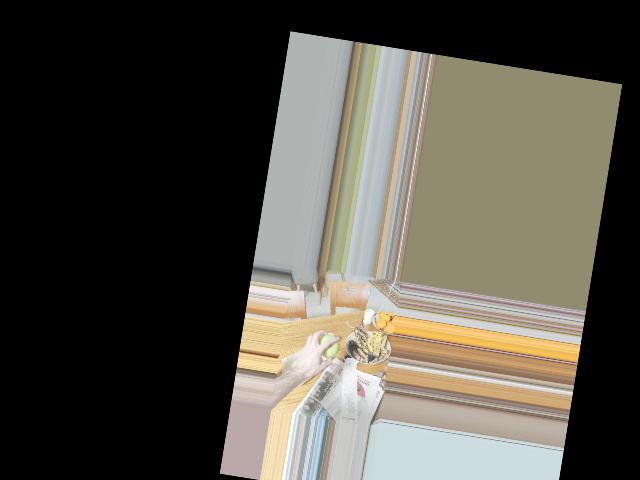apple: (315, 332, 340, 360)
